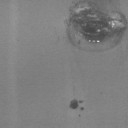slag inclusion: (66, 0, 128, 48), (71, 99, 83, 110), (80, 107, 84, 110)
